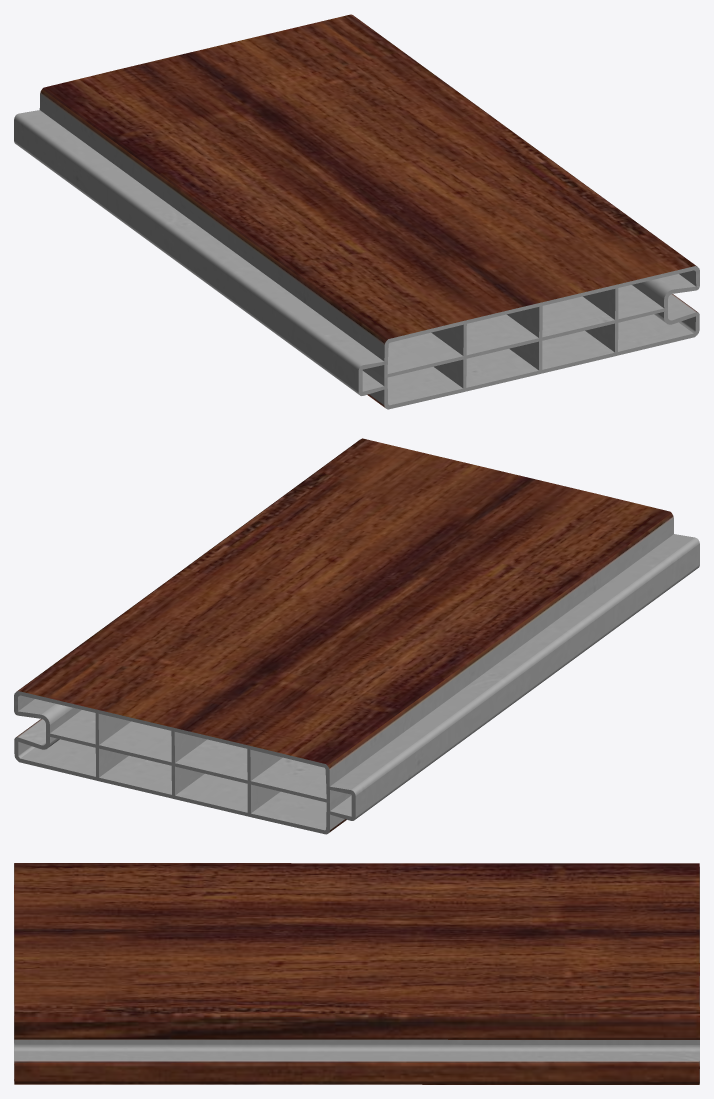
The model's file is lambrimese.glb.
The picture shows the model from 3 angles, top to bottom: view 1: azimuth 30°, elevation 25°; view 2: azimuth 150°, elevation 25°; view 3: azimuth 270°, elevation 25°; orthographic projection.
Parts seen in each view (by area): view 1: meşe kaplama.003; view 2: meşe kaplama.003; view 3: meşe kaplama.003.
Part boxes in pixels (box(x1,y1,x2,y2)): meşe kaplama.003: box(14, 14, 699, 409); meşe kaplama.003: box(14, 438, 699, 834); meşe kaplama.003: box(14, 863, 699, 1084).
Size of the model in its own units: 5.85 by 1.2 by 10.22.
2 materials, 2 textured.
